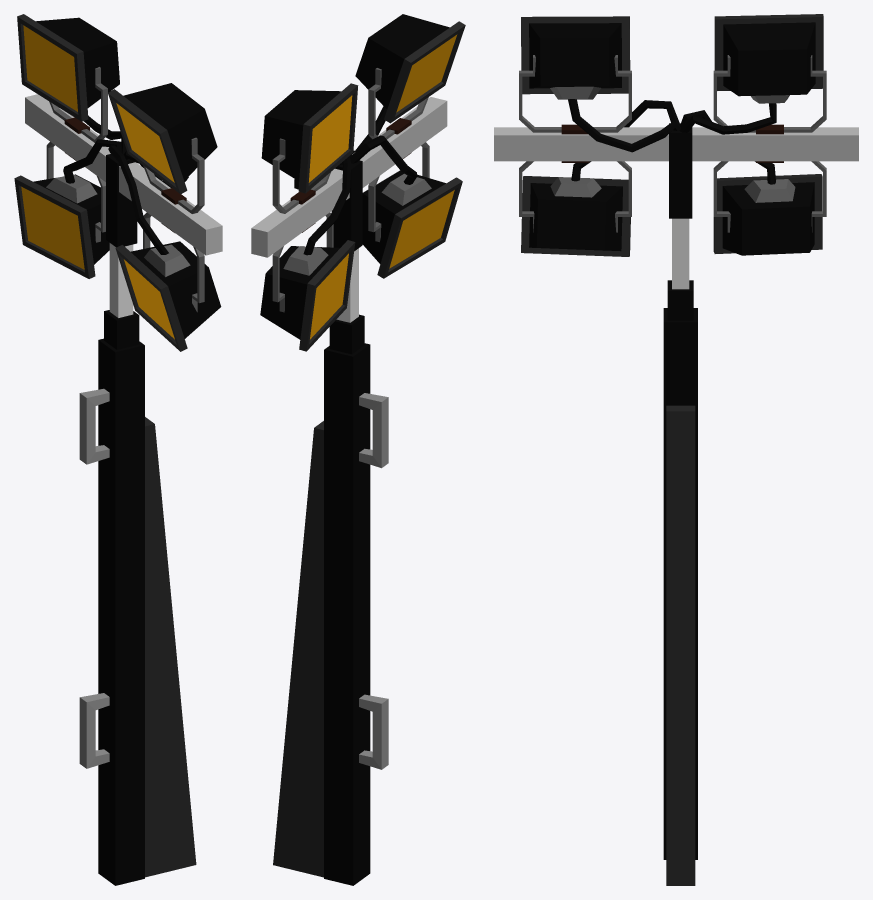
The model's file is mat_eclairage.glb.
3 renders of one model, left to right at view 1: azimuth 30°, elevation 25°; view 2: azimuth 150°, elevation 25°; view 3: azimuth 270°, elevation 25°, orthographic.
Visible parts, largest first — view 1: Projector_6; view 2: Projector_6; view 3: Projector_6.
Boxes of the visible parts, x1,y1,x2,y2 form: Projector_6: [14, 14, 222, 885]; Projector_6: [251, 14, 465, 885]; Projector_6: [494, 14, 858, 885].
Size of the model in its own units: 0.2663 by 1.93 by 0.7733.
1 material, 1 textured.
